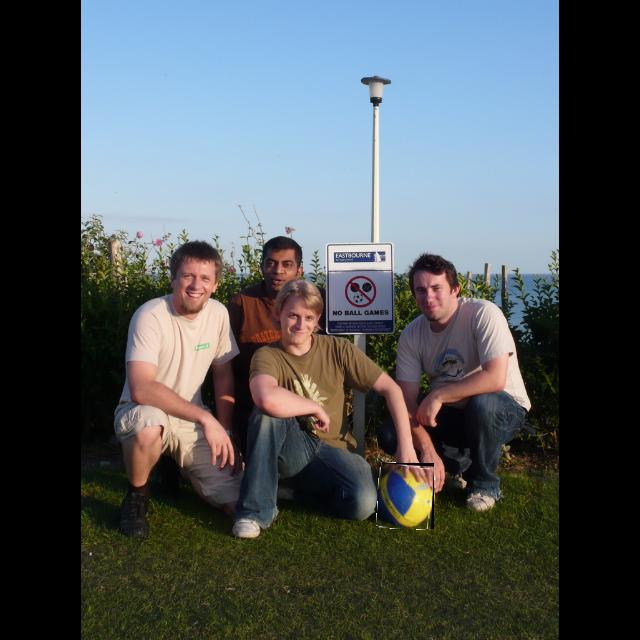Football: (378, 463, 434, 529)
